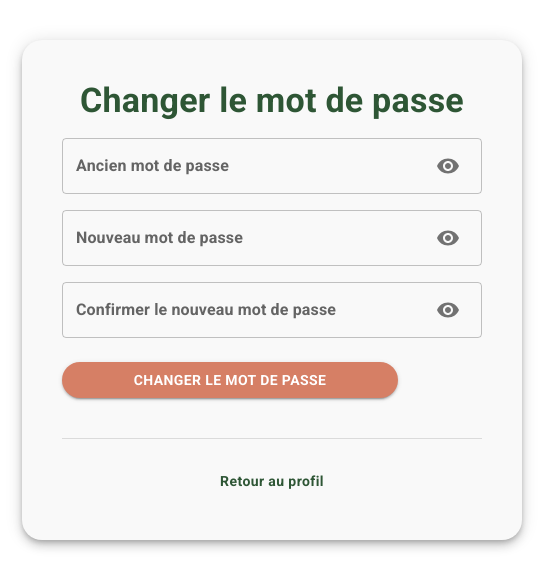
Test case: ChangePasswordPage › shows error if new password is weak
The width and height of the screenshot is (545, 588).
In the password field labelled "Ancien mot de passe": (241, 166) [62,138,420,194], type "oldpass123!"
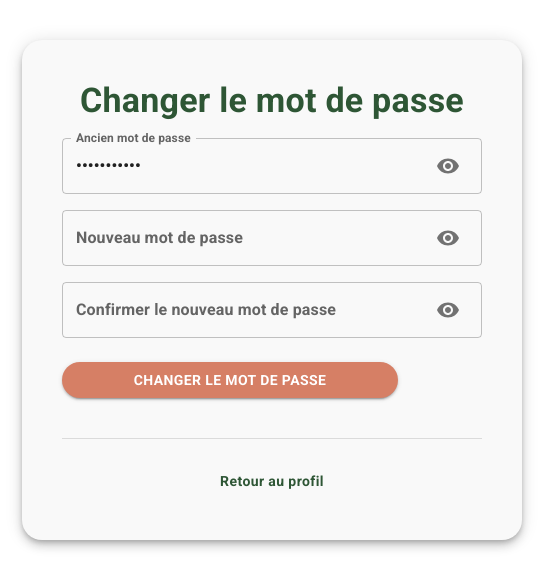
In the password field labelled "Nouveau mot de passe": (241, 238) [62,210,420,266], type "weak"
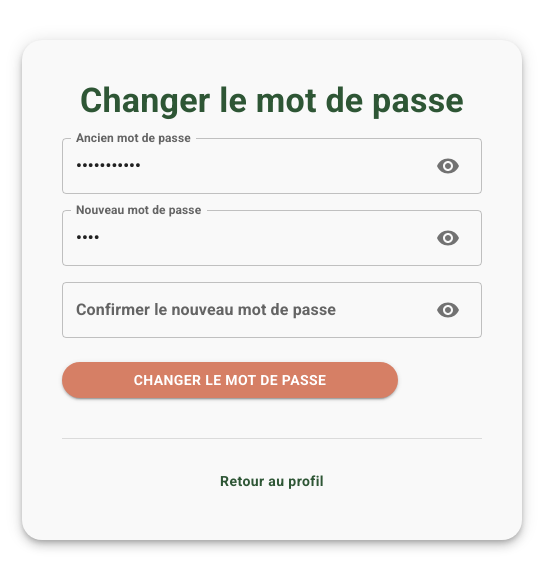
In the password field labelled "Confirmer le nouveau mot de passe": (241, 310) [62,282,420,338], type "weak"
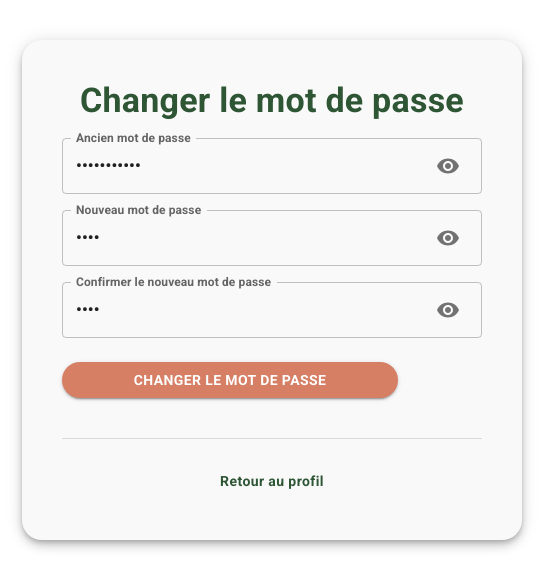
Click the button "Changer le mot de passe": (230, 380) [62,362,398,398]
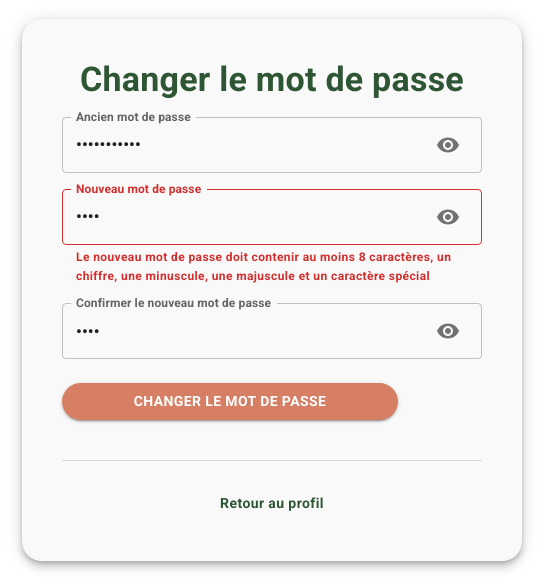
expect the text "Le nouveau mot de passe doit contenir au moins 8 caractères" is shown: met, box [76,250,451,284]
